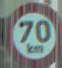Speed limit: (5, 3, 52, 59)
